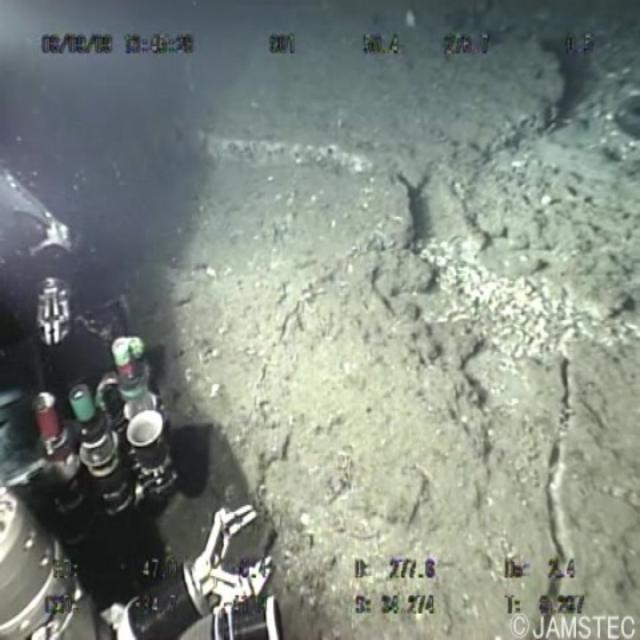Rubber: (598, 80, 640, 154)
